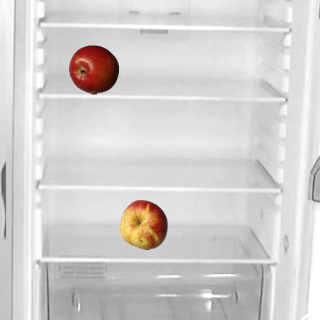Apple Braeburn: (68, 44, 118, 94)
Apple Red Yellow 1: (118, 199, 168, 249)
